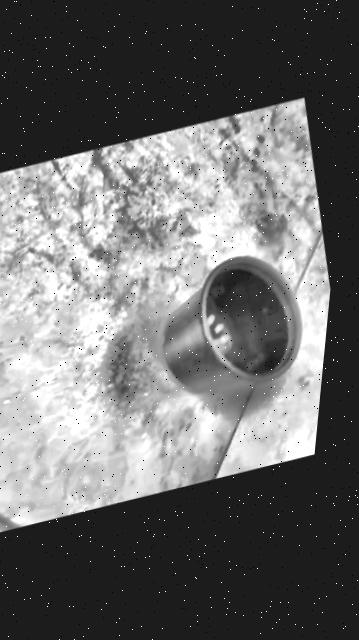pot: (139, 243, 318, 406)
